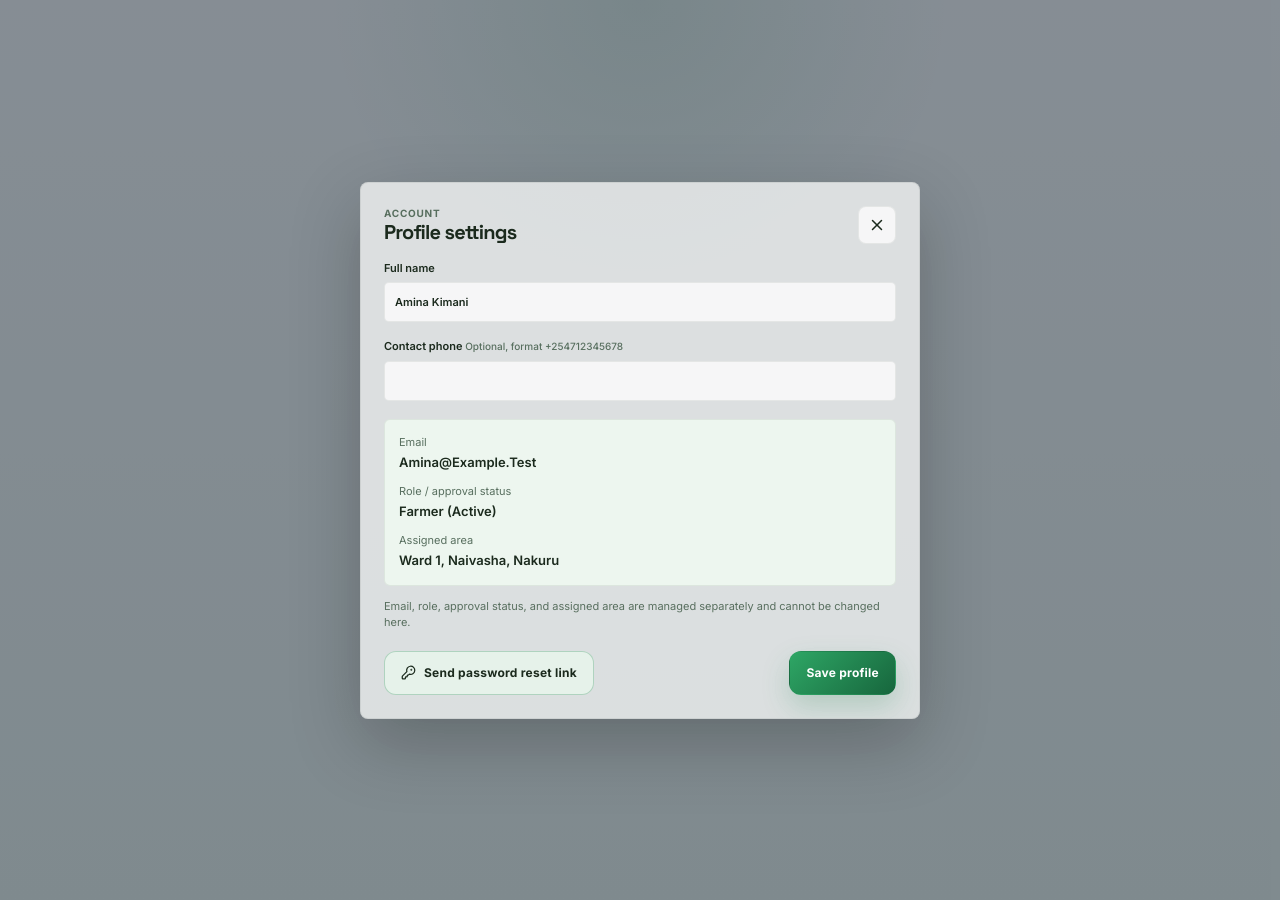
ProfileSettings › saves editable fields while clearly showing identity and jurisdiction as read-only
Expected: the text "amina@example.test" is shown, [399,454,536,470]
Expected: the text "farmer (active)" is shown, [399,503,497,519]
Replace the text in the field labelled "Full name" with "Amina Wanjiku". click: x=640, y=302
box: [384,282,896,322]
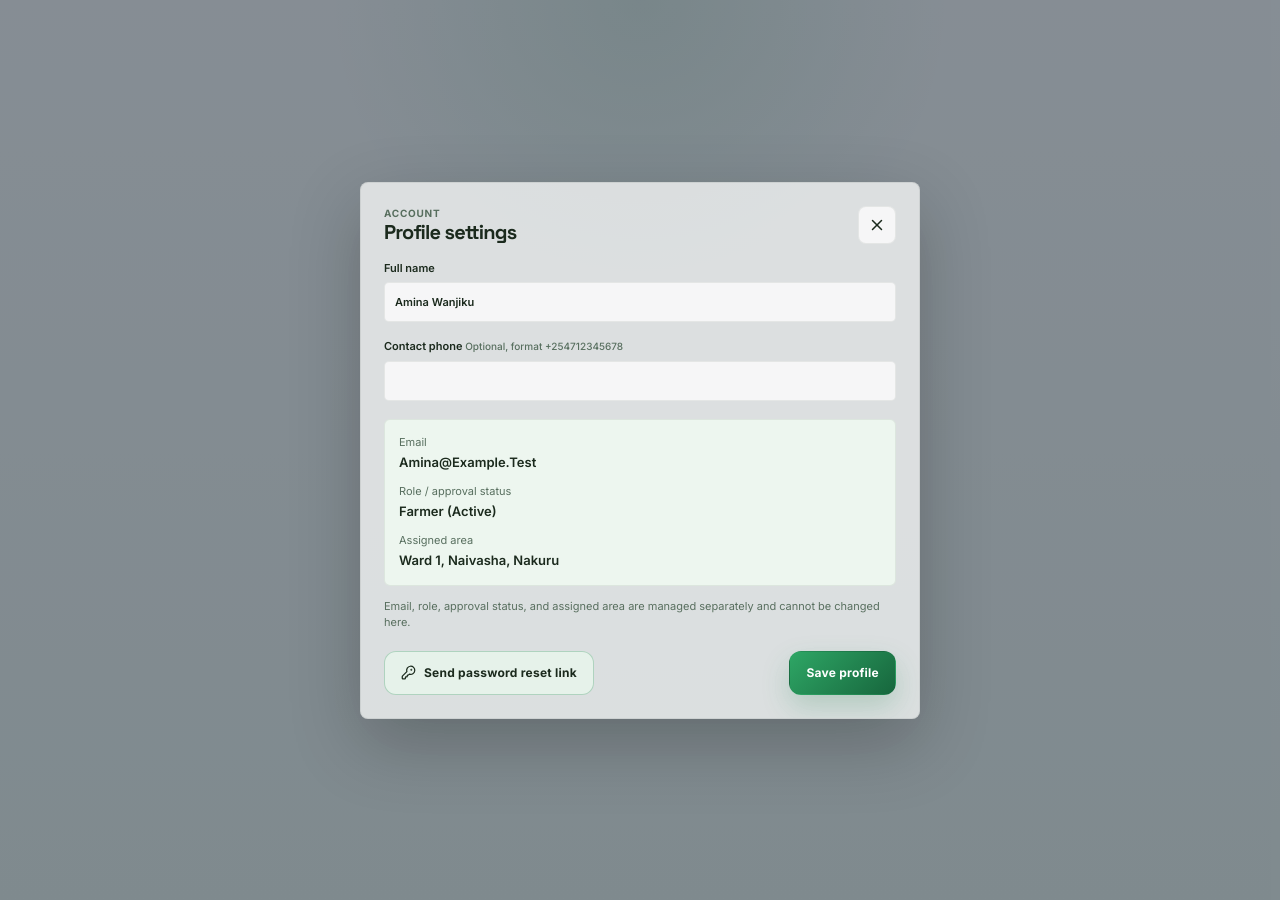
Type "+254712345678" into the field labelled "Contact phone Optional, format +254712345678". click: x=640, y=380
box: [384,360,896,400]
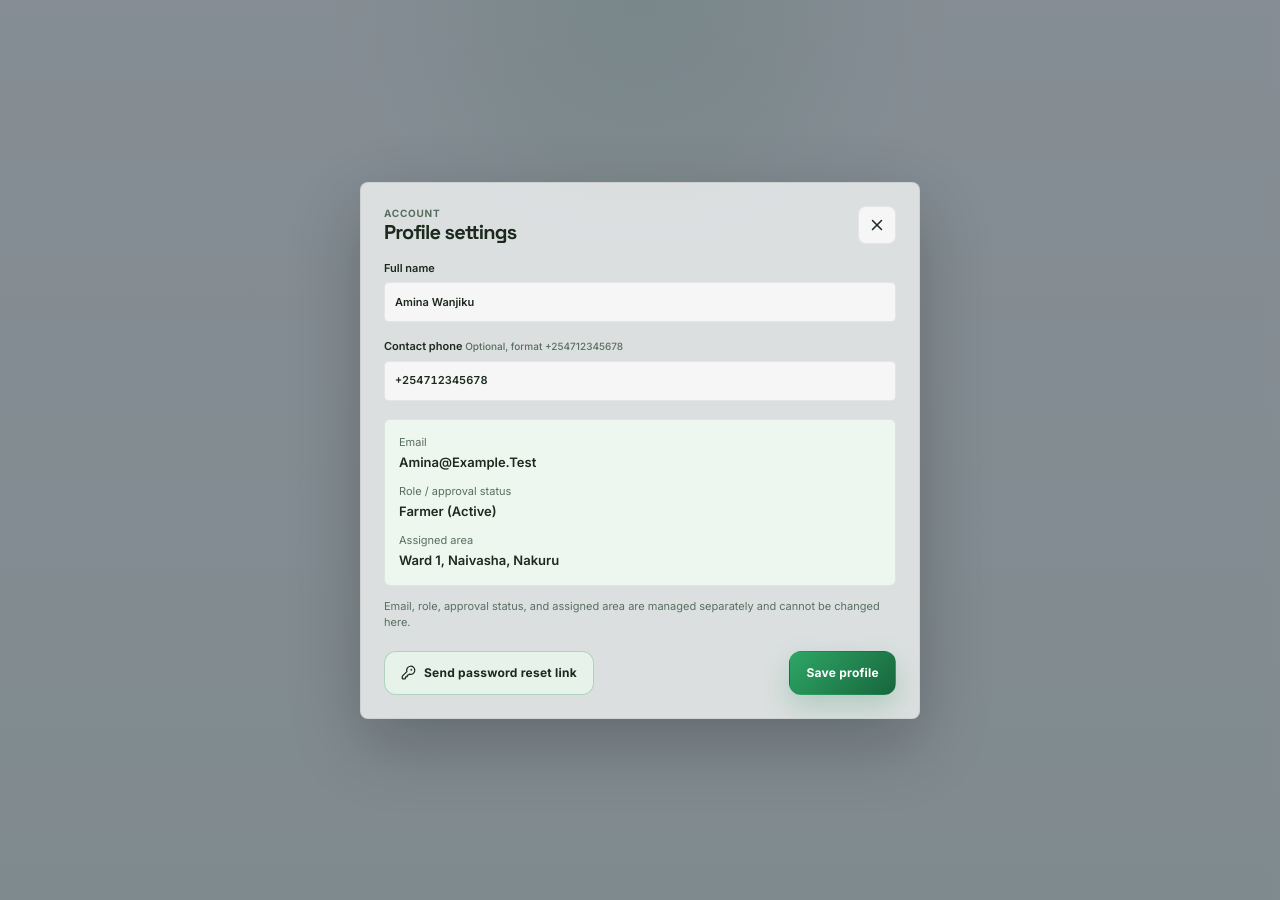
Click the button "Save profile". click: x=843, y=672
box: [790,650,896,694]
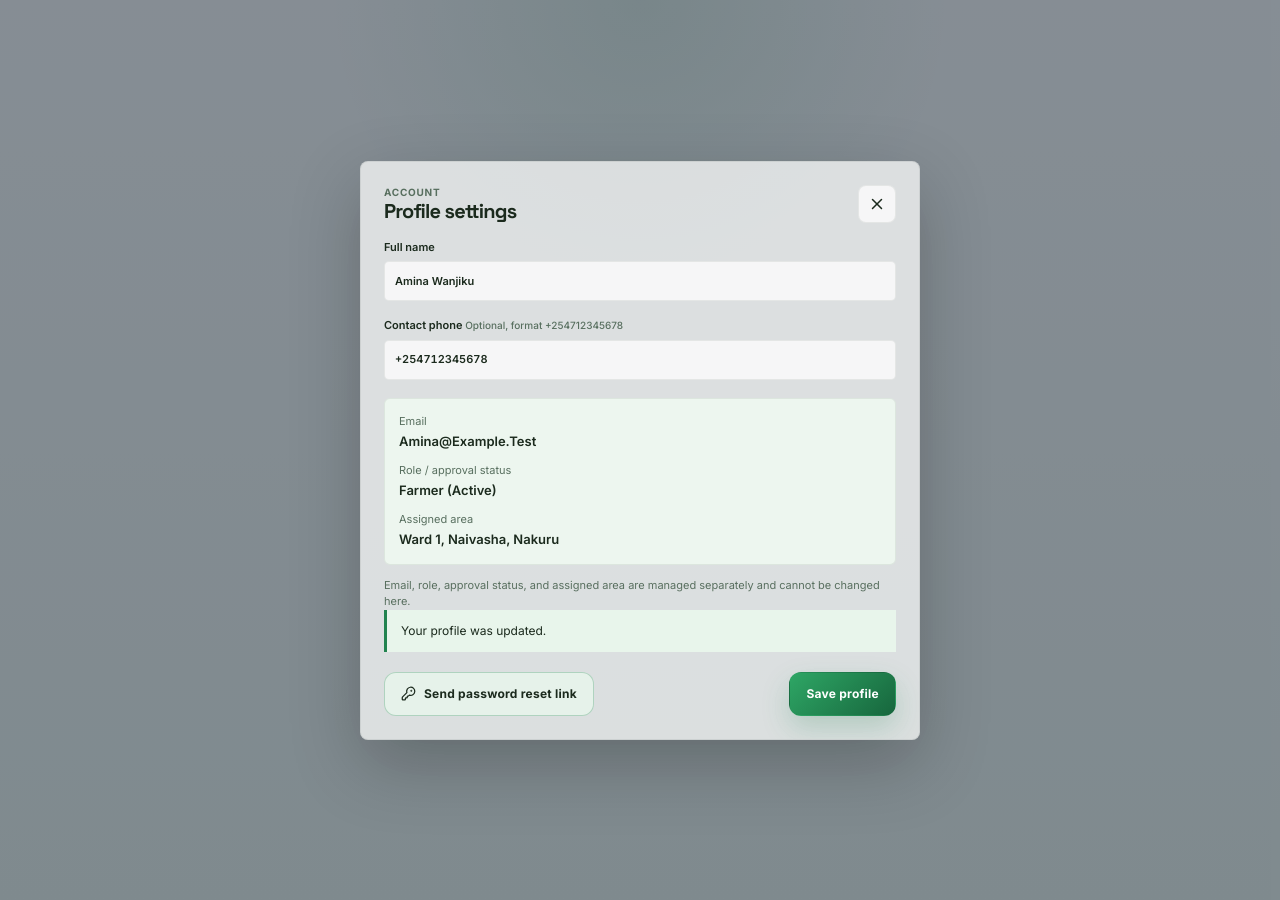
Expected: the message reads "Your profile was updated.", [401,622,546,638]
